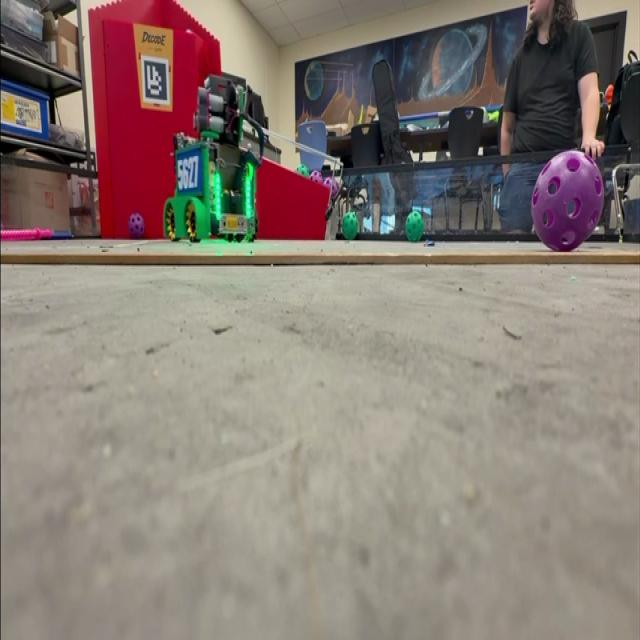artifact_green: (405, 211, 424, 242), (342, 212, 358, 239), (297, 164, 309, 177)
artifact_purple: (532, 151, 604, 251), (129, 214, 145, 238), (324, 176, 339, 198), (310, 170, 323, 183)
